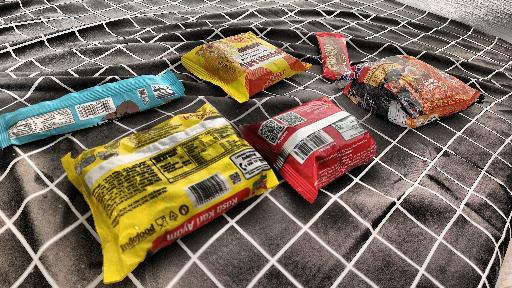dilan: (3, 79, 197, 137)
indomie: (57, 97, 240, 288)
momotaro: (254, 102, 398, 181)
